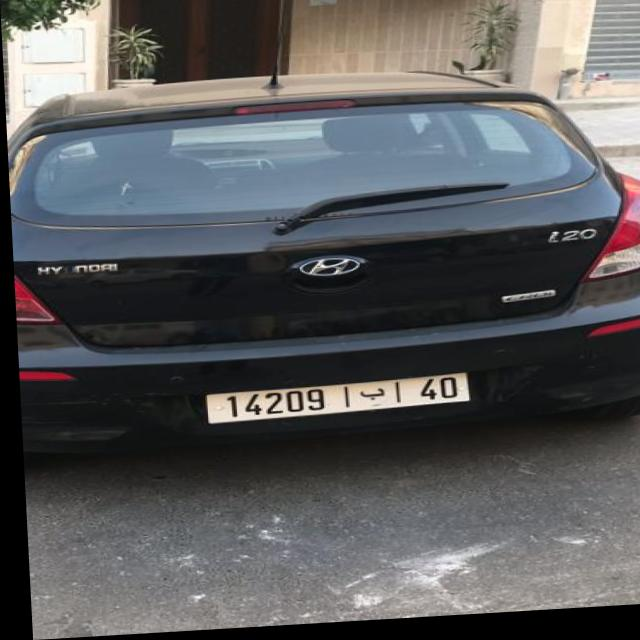License-Plate: (204, 380, 466, 426)
